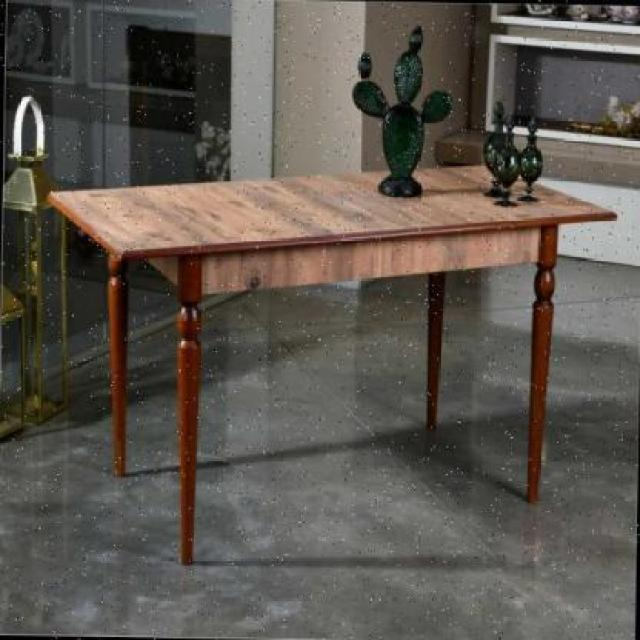tables: (46, 163, 617, 565)
